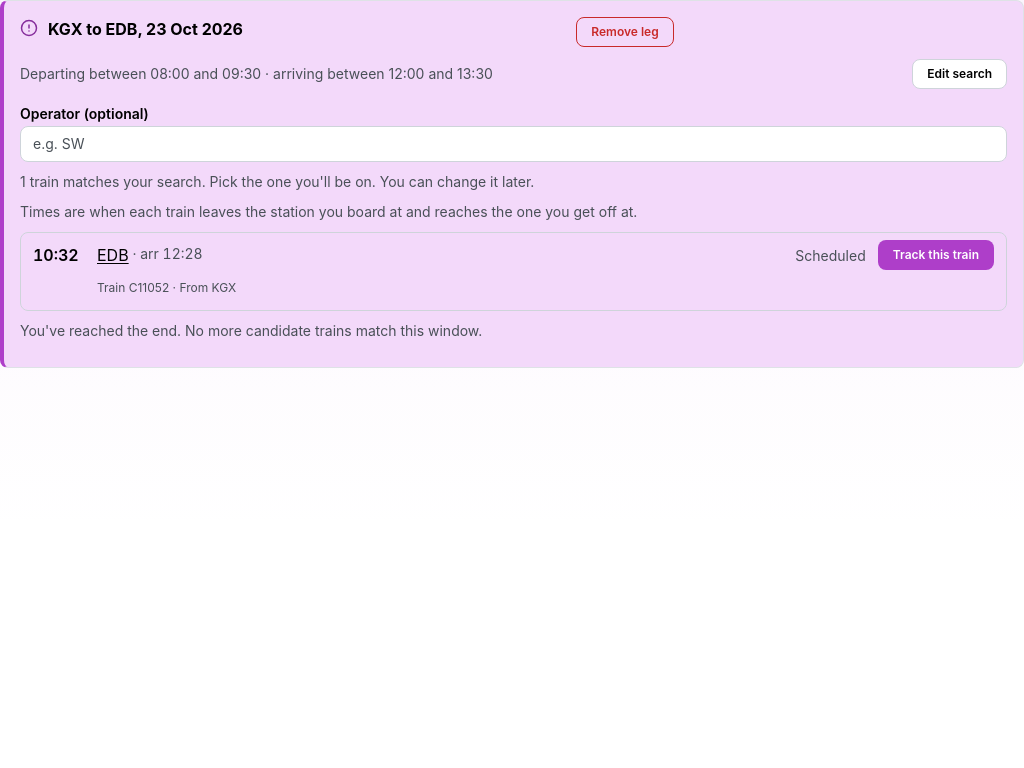
JourneyLegCard: Edit search › opens with every setting the leg was searched with
Click the button "Edit search" at point(960, 74), box [912,59,1007,89]
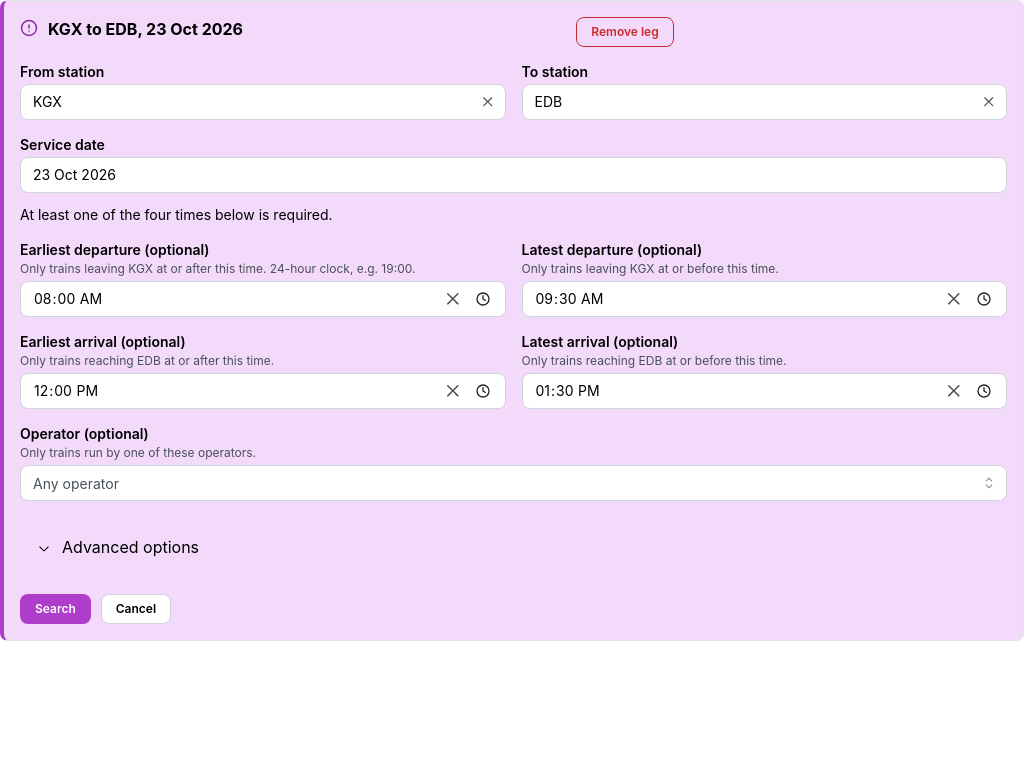
Expected: the dropdown labelled "From station" holds "KGX", [20,84,506,120]
Expected: the dropdown labelled "To station" holds "EDB", [522,84,1007,120]
Expected: the field labelled "Service date" holds "23 Oct 2026", [20,157,1007,193]
